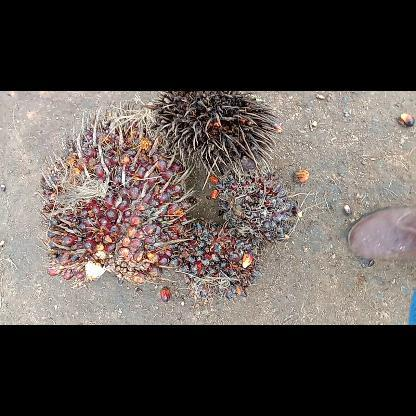Janjang kosong: (142, 90, 286, 178)
TBS abnormal: (170, 218, 262, 300), (214, 168, 302, 246)
TBS masak: (35, 100, 193, 290)
